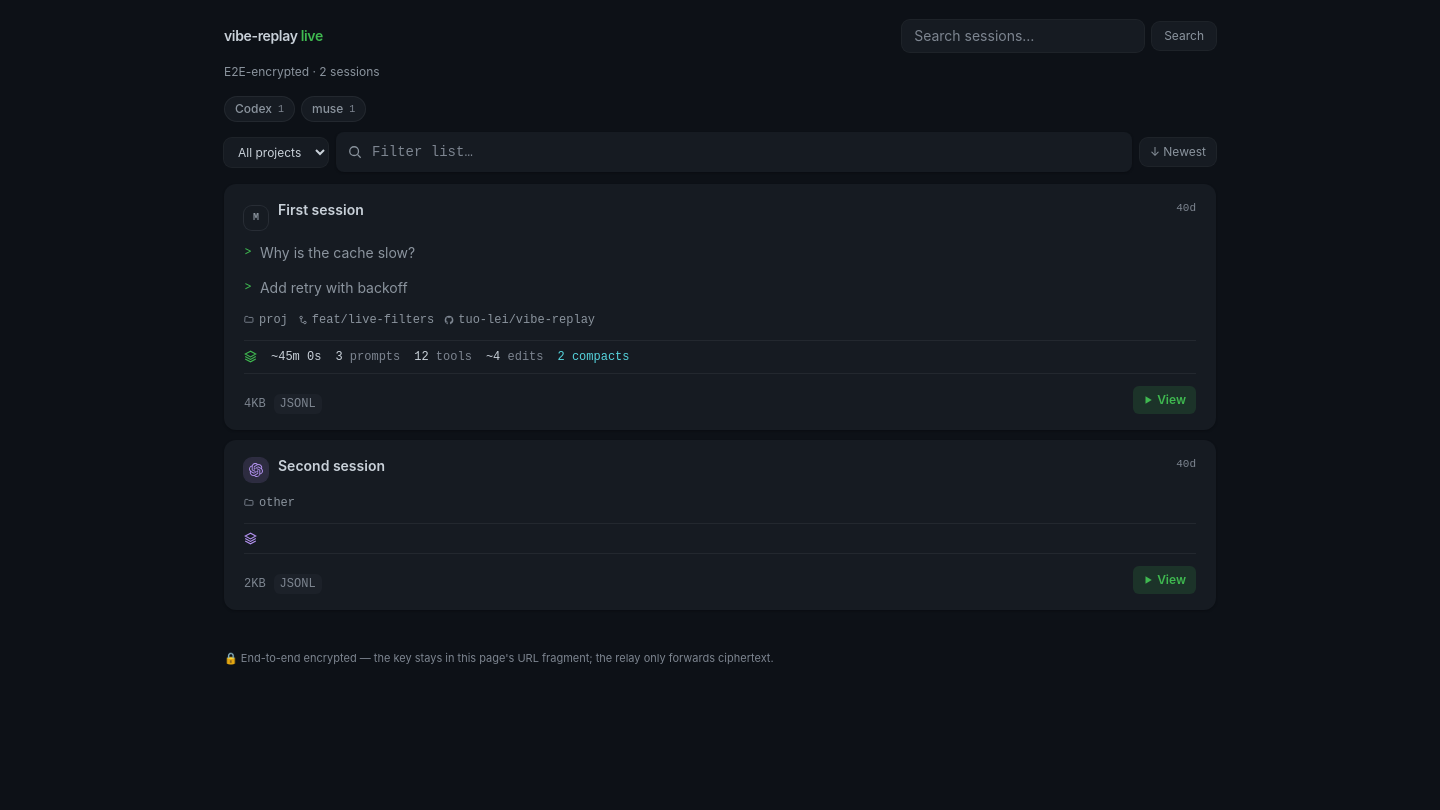
Test case: LiveApp › opens a session and renders the transcript via ConversationView
Click the text "First session".
click(321, 210)  # box top-left (278, 200), bottom-right (364, 219)
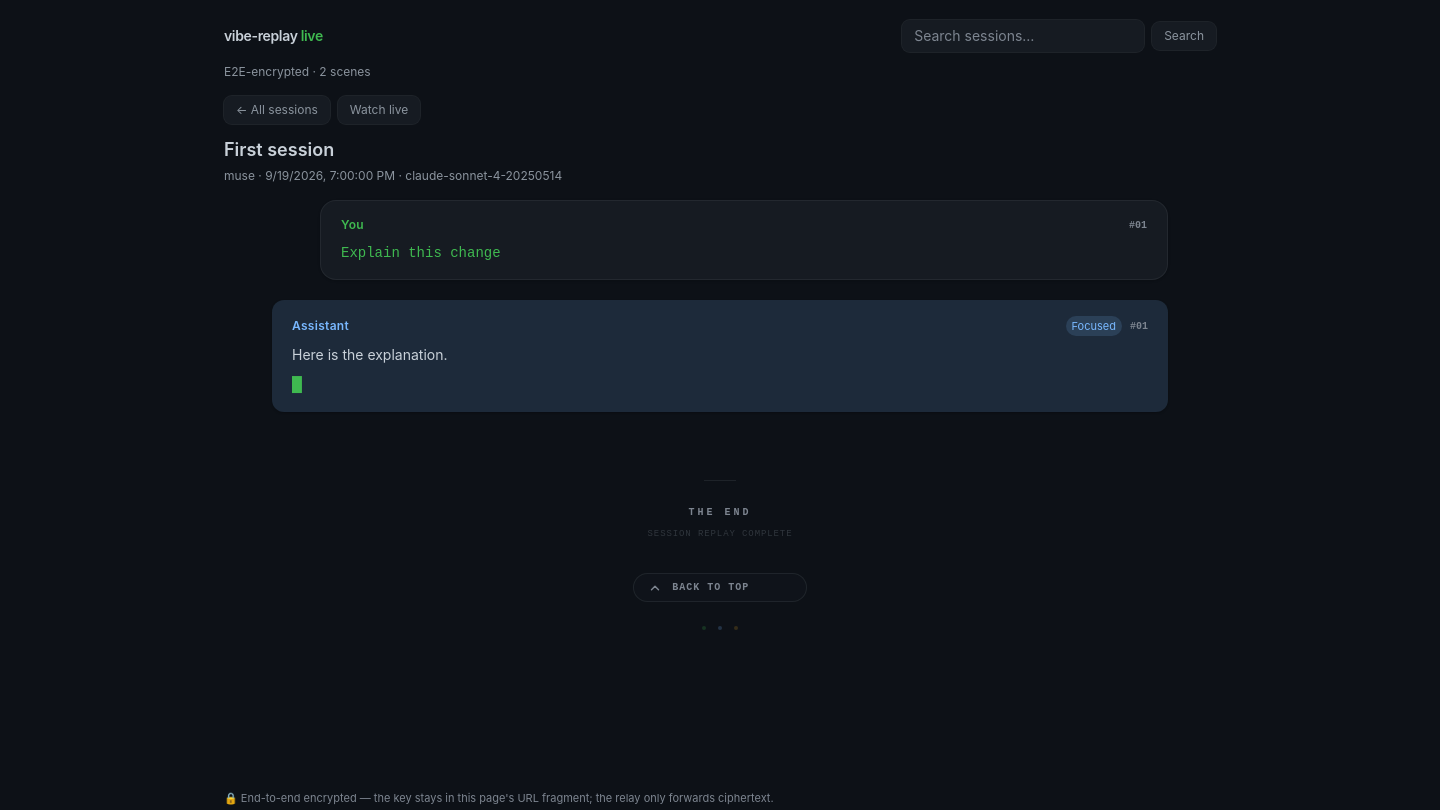
expect the text "Explain this change" is shown: met, box top-left (341, 245), bottom-right (501, 261)
expect the text "E2E-encrypted · 2 scenes" is shown: met, box top-left (224, 64), bottom-right (371, 79)
# …and back returns to the list.
Click the button "← All sessions".
click(277, 110)  # box top-left (224, 96), bottom-right (330, 124)
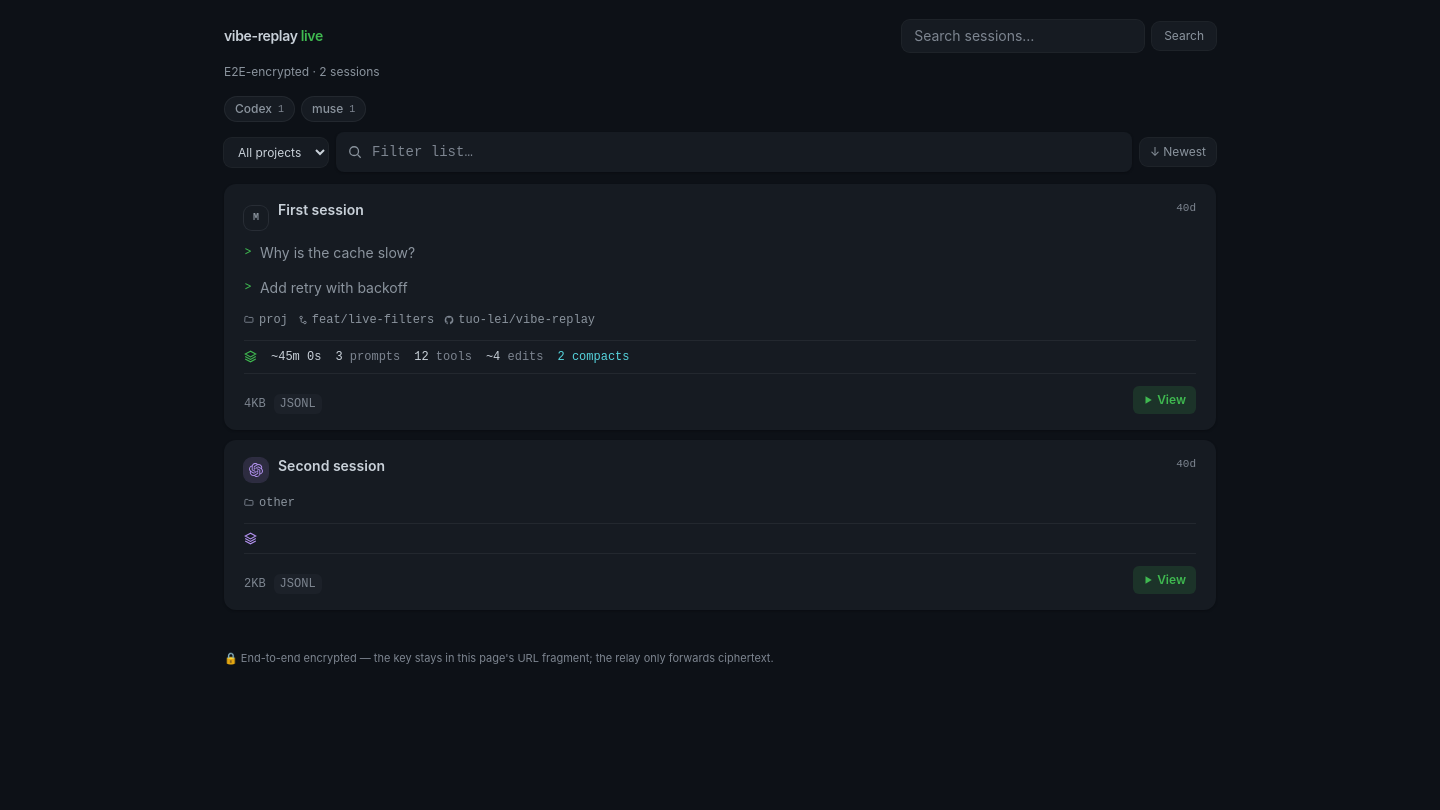
expect the text "E2E-encrypted · 2 sessions" is shown: met, box top-left (224, 64), bottom-right (380, 79)
